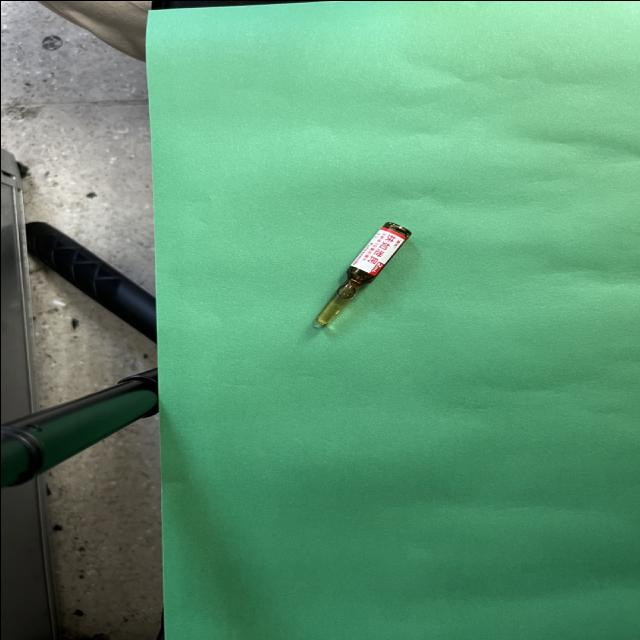Ampoules: (315, 222, 411, 324)
